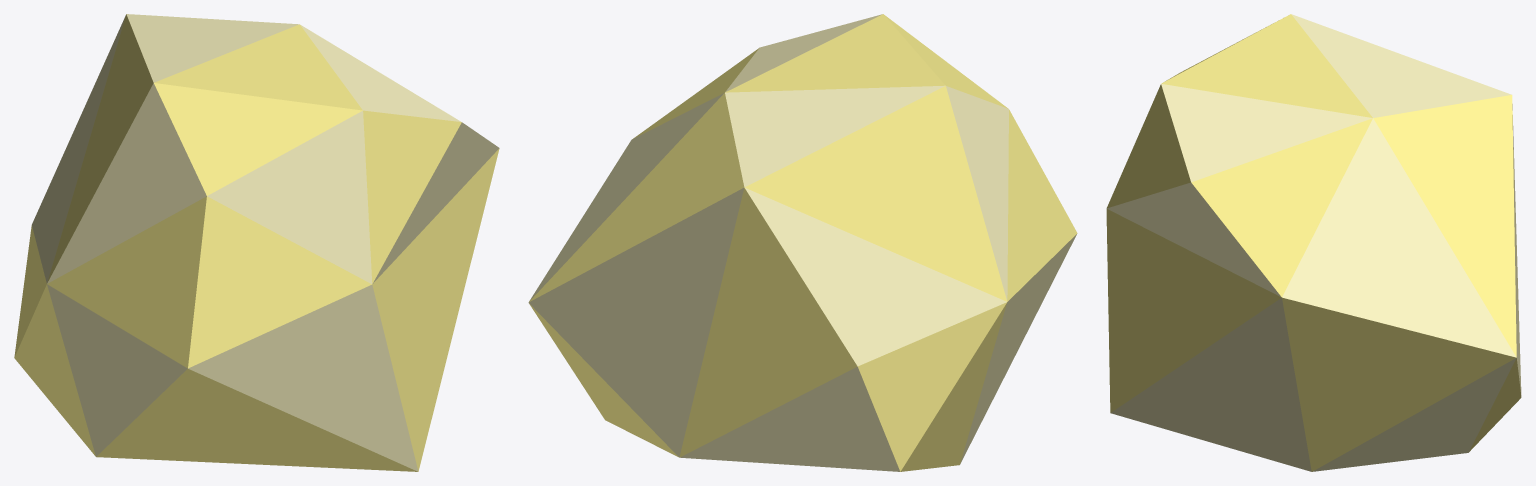
The model's file is Dirt.fbx.
The picture shows the model from 3 angles, left to right: view 1: azimuth 30°, elevation 25°; view 2: azimuth 150°, elevation 25°; view 3: azimuth 270°, elevation 25°; orthographic projection. The views are drawn at different scales.
Parts seen in each view (by area): view 1: Dirt; view 2: Dirt; view 3: Dirt.
Part boxes in pixels (x1=…): Dirt: x1=14, y1=14, x2=499, y2=471; Dirt: x1=528, y1=14, x2=1077, y2=471; Dirt: x1=1106, y1=14, x2=1521, y2=471.
Size of the model in its own units: 161 by 148 by 174.
